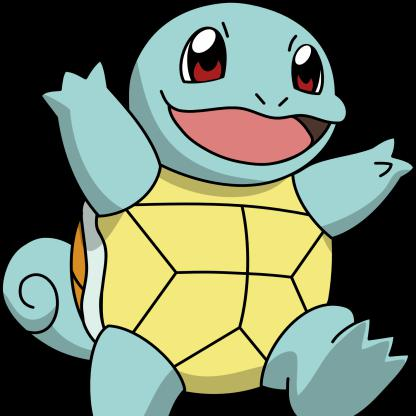Squirtle: (34, 7, 416, 416)
